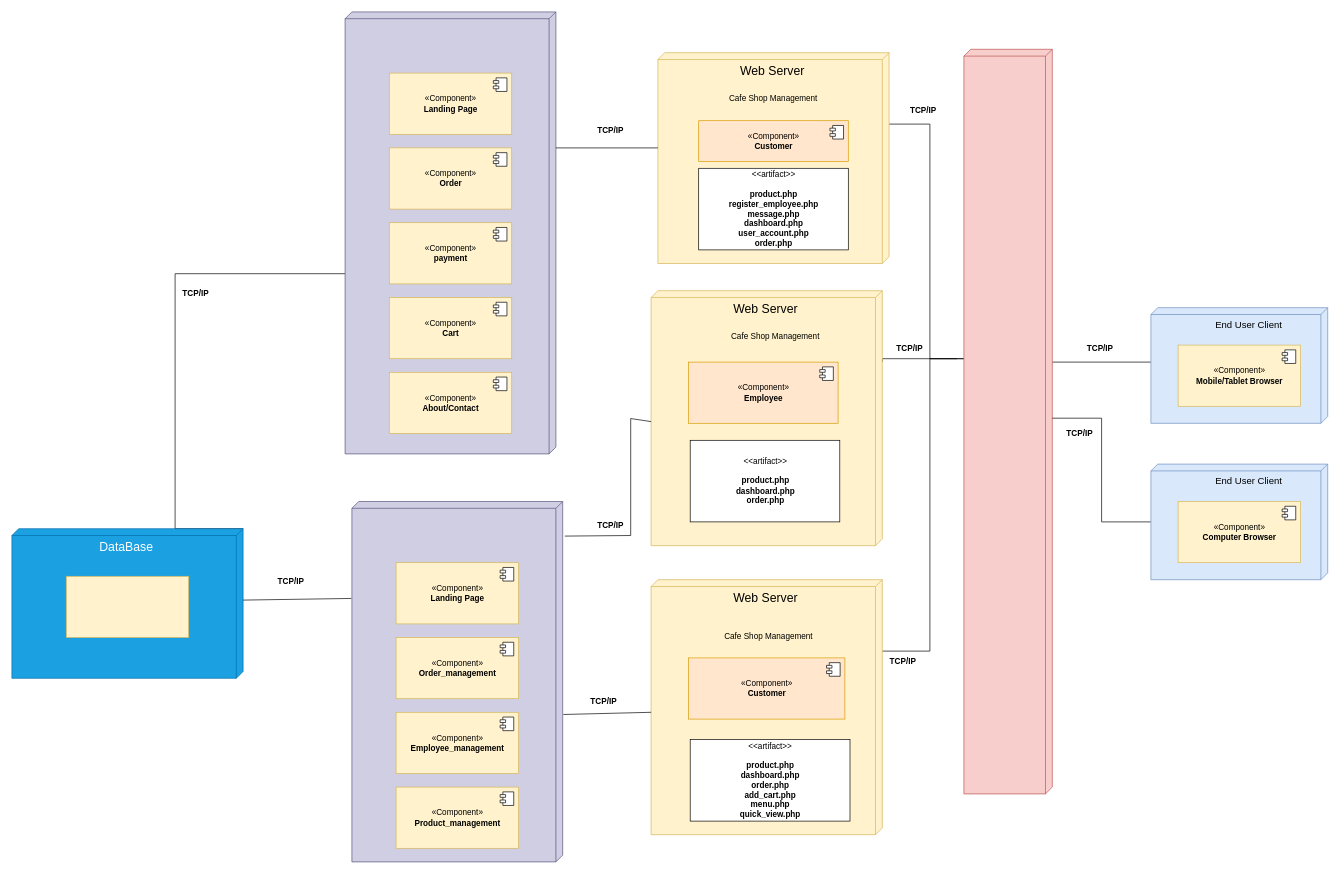
Some shapes in this 1340 by 874 pixel diagram are drawn without their labels. The box of each missing label's shape, as (x1, y1, x2, y2) in pixels:
Application: (351, 501, 563, 862)
Applicationa: (344, 11, 556, 454)
Firewall: (963, 49, 1052, 794)
«Component» cafeShop1_db: (66, 576, 189, 638)
